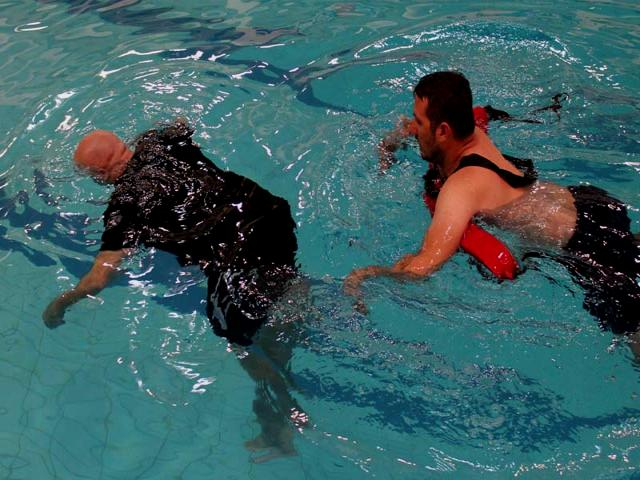drowning: (44, 117, 338, 457)
swimming: (358, 69, 640, 353)
